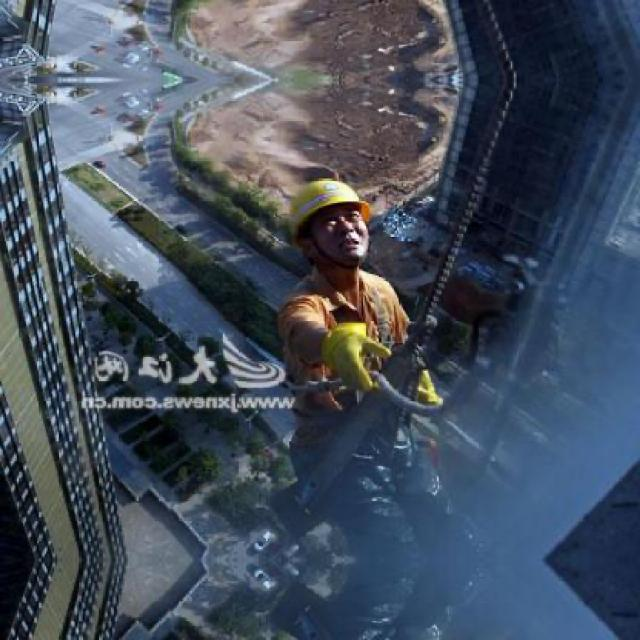helmet: (280, 168, 394, 280)
